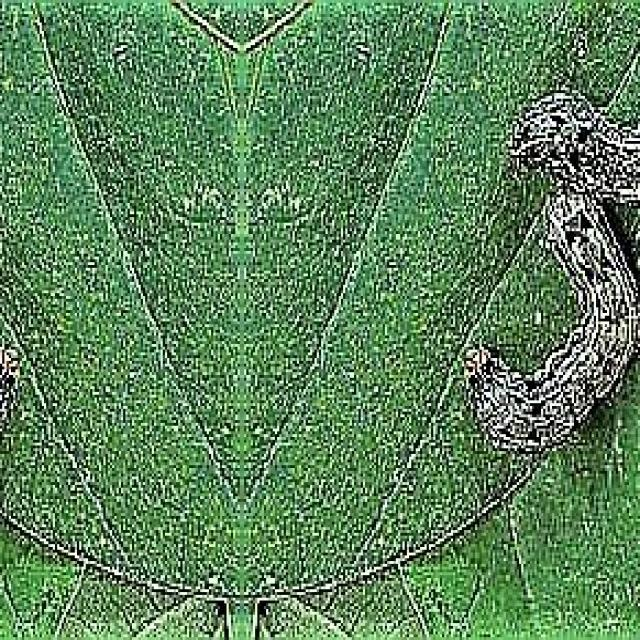Armyworm: (446, 194, 635, 508), (500, 42, 640, 209)
